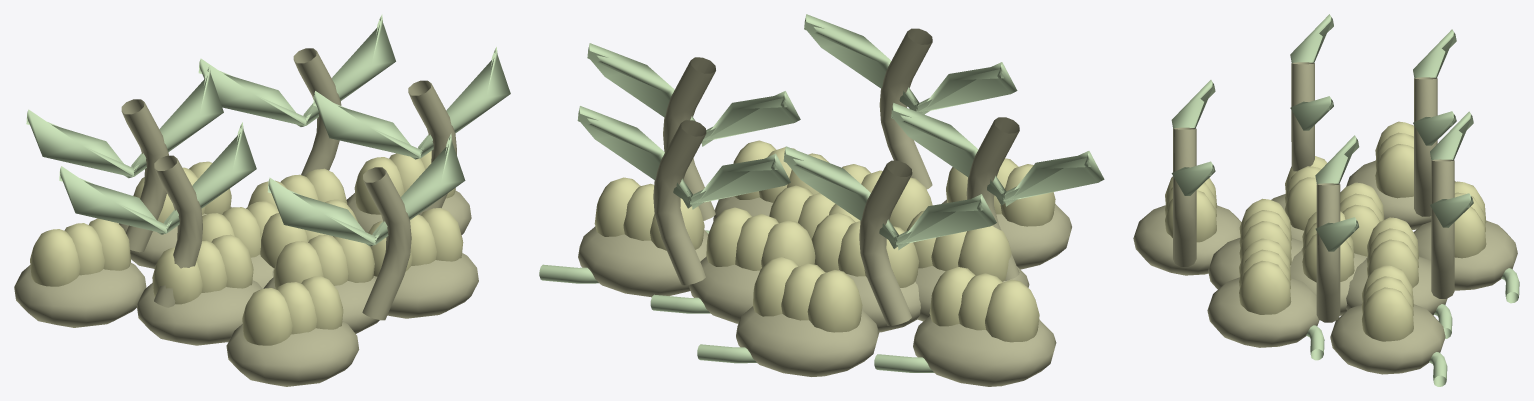
Rendered from bio_acid_mat_02_far.glb.
3 renders of one model, left to right at view 1: azimuth 30°, elevation 25°; view 2: azimuth 150°, elevation 25°; view 3: azimuth 270°, elevation 25°, orthographic. The views are drawn at different scales.
Parts seen in each view (by area): view 1: Microbial cushion.007, Microbial cushion.009, Secondary fan lobe, Secondary fan lobe.002, Secondary fan lobe.008, Secondary fan lobe.004, Secondary fan lobe.006, Reaction vesicle.021, Reaction vesicle.027, Microbial cushion.004, Reaction vesicle.012, Reaction vesicle.006 (+16 smaller); view 2: Microbial cushion.009, Microbial cushion.006, Reaction vesicle.018, Reaction vesicle.027, Secondary fan lobe.002, Secondary fan lobe.008, Secondary fan lobe.006, Secondary fan lobe.004, Secondary fan lobe, Microbial cushion.008, Reaction vesicle.009, Branching support.001 (+20 smaller); view 3: Microbial cushion.008, Microbial cushion.005, Microbial cushion.007, Reaction vesicle.024, Reaction vesicle.015, Microbial cushion.006, Branching support, Branching support.003, Branching support.002, Reaction vesicle.027, Reaction vesicle.009, Branching support.001 (+20 smaller).
Boxes of the visible parts, <box> form: Microbial cushion.007: <box>226,321,359,386</box>; Microbial cushion.009: <box>14,262,146,327</box>; Secondary fan lobe: <box>313,47,510,159</box>; Secondary fan lobe.002: <box>26,65,223,178</box>; Secondary fan lobe.008: <box>59,122,256,234</box>; Secondary fan lobe.004: <box>267,133,465,246</box>; Secondary fan lobe.006: <box>198,14,395,126</box>; Reaction vesicle.021: <box>242,276,343,345</box>; Reaction vesicle.027: <box>30,218,130,286</box>; Microbial cushion.004: <box>136,280,262,345</box>; Reaction vesicle.012: <box>152,234,253,304</box>; Reaction vesicle.006: <box>273,235,374,289</box>; Microbial cushion.009: <box>913,316,1056,386</box>; Microbial cushion.006: <box>736,306,878,376</box>; Reaction vesicle.018: <box>753,257,862,332</box>; Reaction vesicle.027: <box>929,267,1039,342</box>; Secondary fan lobe.002: <box>783,146,996,250</box>; Secondary fan lobe.008: <box>891,103,1104,206</box>; Secondary fan lobe.006: <box>577,106,790,209</box>; Secondary fan lobe.004: <box>804,14,1017,114</box>; Secondary fan lobe: <box>587,43,800,146</box>; Microbial cushion.008: <box>578,226,708,297</box>; Reaction vesicle.009: <box>706,207,815,270</box>; Branching support.001: <box>859,160,912,325</box>; Microbial cushion.008: <box>1330,304,1445,374</box>; Microbial cushion.005: <box>1207,277,1319,347</box>; Microbial cushion.007: <box>1133,205,1241,275</box>; Reaction vesicle.024: <box>1362,265,1413,341</box>; Reaction vesicle.015: <box>1239,238,1291,314</box>; Microbial cushion.006: <box>1413,220,1517,290</box>; Branching support: <box>1316,183,1340,322</box>; Branching support.003: <box>1431,159,1454,298</box>; Branching support.002: <box>1173,127,1196,266</box>; Reaction vesicle.027: <box>1375,121,1413,198</box>; Reaction vesicle.009: <box>1367,217,1418,287</box>; Branching support.001: <box>1414,77,1437,216</box>.
Bounding box in the file's own units: 1.85 × 0.7549 × 1.47.
